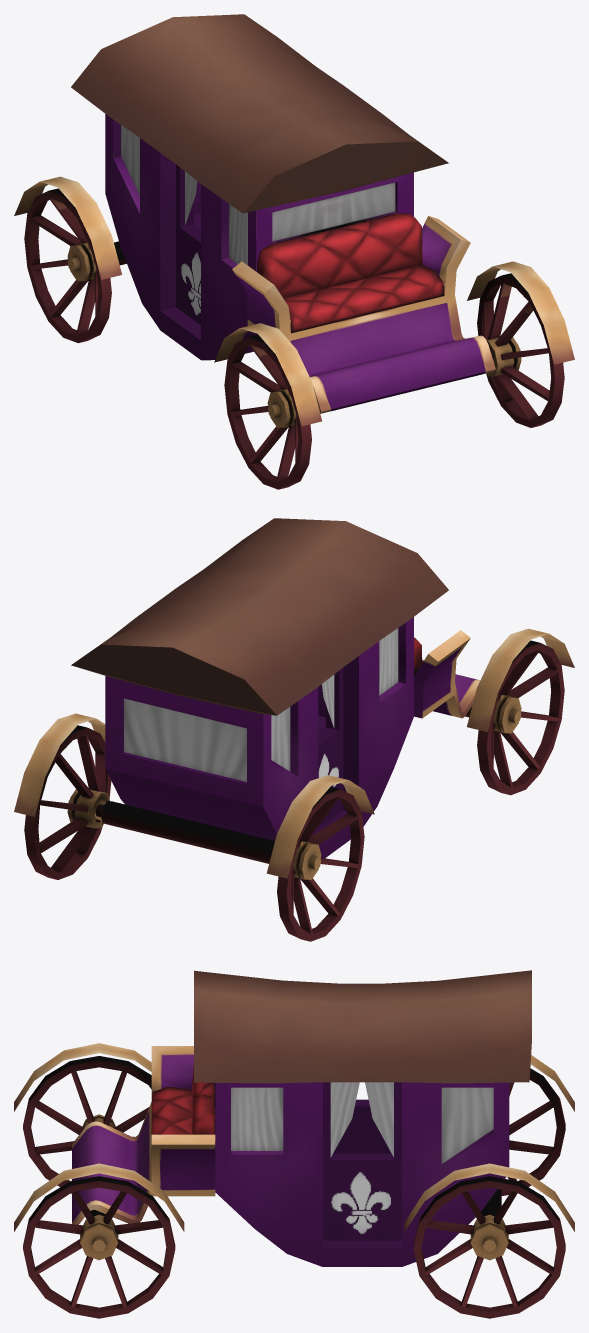
The model's file is carrozalimpia.fbx.
3 renders of one model, top to bottom at view 1: azimuth 30°, elevation 25°; view 2: azimuth 150°, elevation 25°; view 3: azimuth 270°, elevation 25°, orthographic. The views are drawn at different scales.
Parts seen in each view (by area): view 1: Obj_Carroza, Obj_Rueda_carroza.001, Obj_Rueda_carroza, Obj_Puertas_Carroza; view 2: Obj_Carroza, Obj_Rueda_carroza, Obj_Rueda_carroza.001, Obj_Puertas_Carroza; view 3: Obj_Carroza, Obj_Rueda_carroza.001, Obj_Rueda_carroza, Obj_Puertas_Carroza.
Part boxes in pixels (box(x1,y1,x2,y2)): Obj_Carroza: box(71, 14, 495, 413); Obj_Rueda_carroza.001: box(214, 261, 574, 489); Obj_Rueda_carroza: box(14, 176, 126, 343); Obj_Puertas_Carroza: box(176, 164, 200, 325); Obj_Carroza: box(71, 518, 480, 858); Obj_Rueda_carroza: box(14, 713, 374, 941); Obj_Rueda_carroza.001: box(465, 628, 574, 795); Obj_Puertas_Carroza: box(318, 667, 343, 828); Obj_Carroza: box(72, 970, 531, 1266); Obj_Rueda_carroza.001: box(14, 1043, 184, 1318); Obj_Rueda_carroza: box(404, 1055, 574, 1318); Obj_Puertas_Carroza: box(323, 1082, 401, 1240).
Size of the model in its own units: 322 by 306 by 585.
